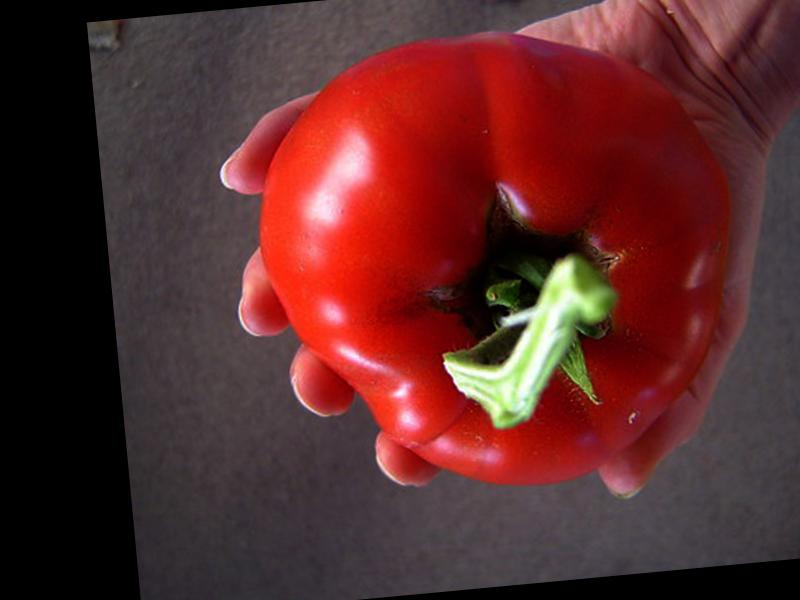Tomato: (243, 13, 752, 509)
